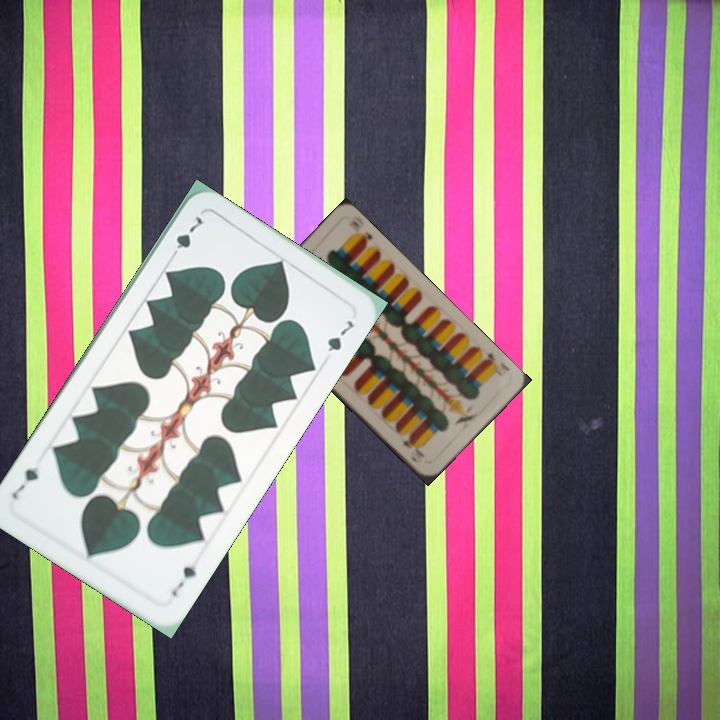E10: (479, 348, 512, 374)
G7: (166, 211, 205, 263), (167, 561, 199, 599)
